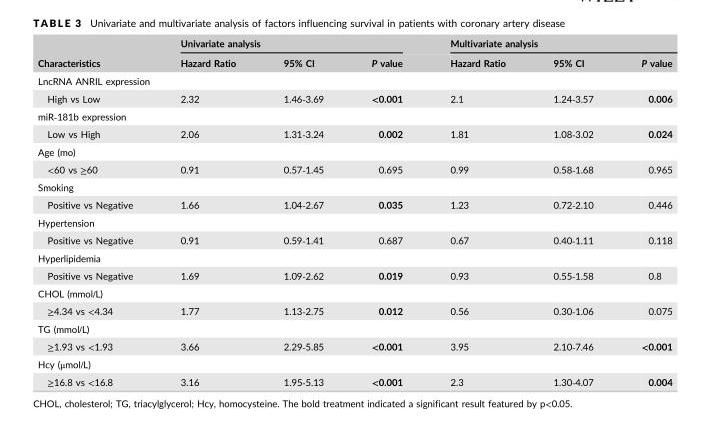table: (37, 37, 671, 388)
table column: (37, 37, 155, 388), (155, 37, 258, 388), (425, 37, 528, 388), (258, 37, 346, 388), (528, 37, 616, 388), (346, 37, 425, 388), (616, 37, 671, 388)
table column header: (37, 37, 671, 71)
table projected row header: (37, 107, 671, 125), (37, 71, 671, 88), (37, 178, 671, 195), (37, 213, 671, 230), (37, 284, 671, 301), (37, 355, 671, 372), (37, 143, 671, 159), (37, 249, 671, 265), (37, 320, 671, 336)
table row: (37, 52, 671, 71), (37, 88, 671, 107), (37, 159, 671, 178), (37, 230, 671, 249), (37, 265, 671, 284), (37, 301, 671, 320), (37, 336, 671, 355), (37, 107, 671, 125), (37, 125, 671, 143), (37, 195, 671, 213), (37, 71, 671, 88), (37, 178, 671, 195), (37, 213, 671, 230), (37, 284, 671, 301), (37, 355, 671, 372), (37, 143, 671, 159), (37, 249, 671, 265), (37, 320, 671, 336), (37, 372, 671, 388), (37, 37, 671, 52)
table spanning cell: (155, 37, 425, 52), (37, 37, 155, 71), (425, 37, 671, 52)
